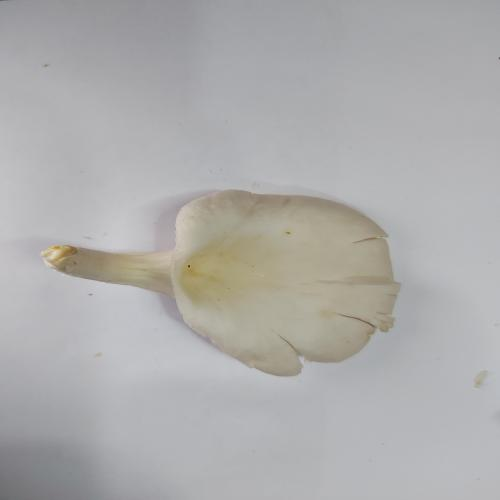Oyster Mushroom: (39, 188, 402, 377)
